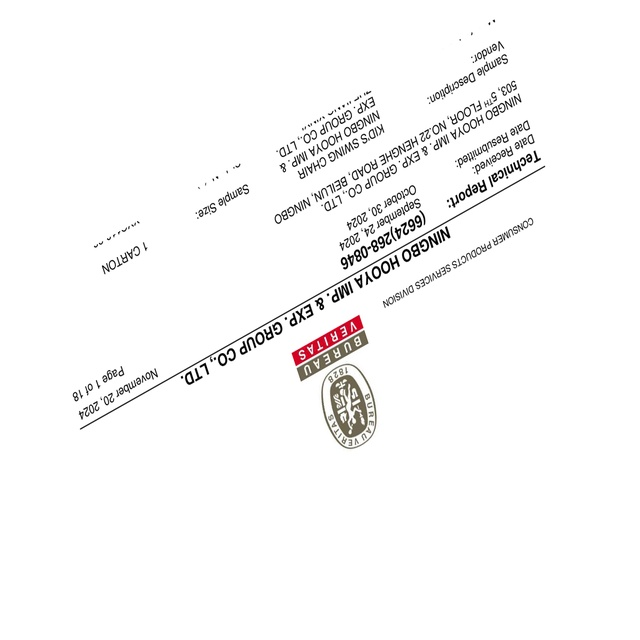bureau_veritas: (287, 312, 380, 457)
